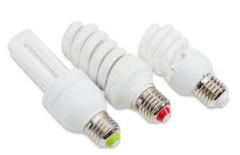lightbulb: (8, 28, 120, 148), (61, 20, 171, 124), (137, 23, 229, 108)
